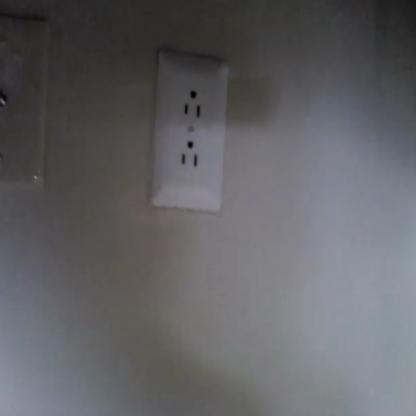OUTLET: (151, 59, 226, 210)
